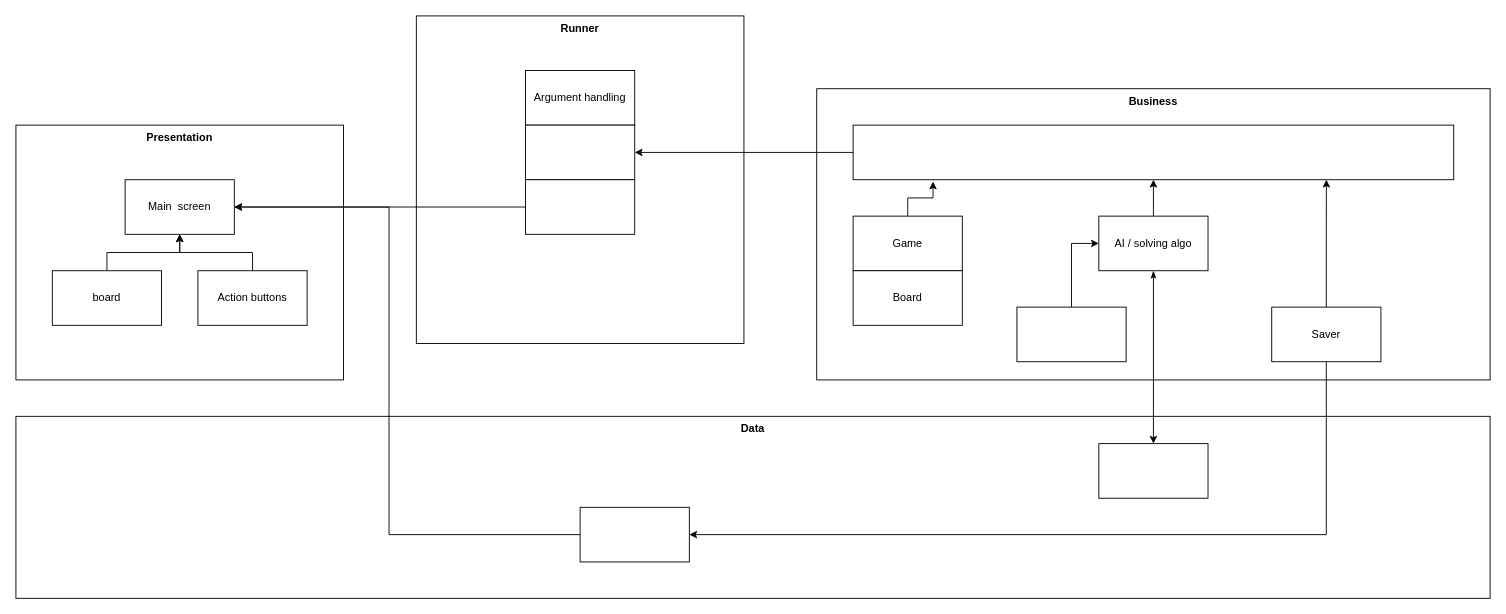
This 1506x614 diagram has some shape labels left out. The box of each missing label's shape, as (x1, y1, x2, y2) in pixels:
all possible boards: (1098, 443, 1208, 498)
board generator: (1016, 306, 1126, 362)
Game results: (579, 506, 689, 562)
Play games: (525, 124, 635, 180)
player: (852, 124, 1454, 180)
Present games: (525, 179, 635, 234)
